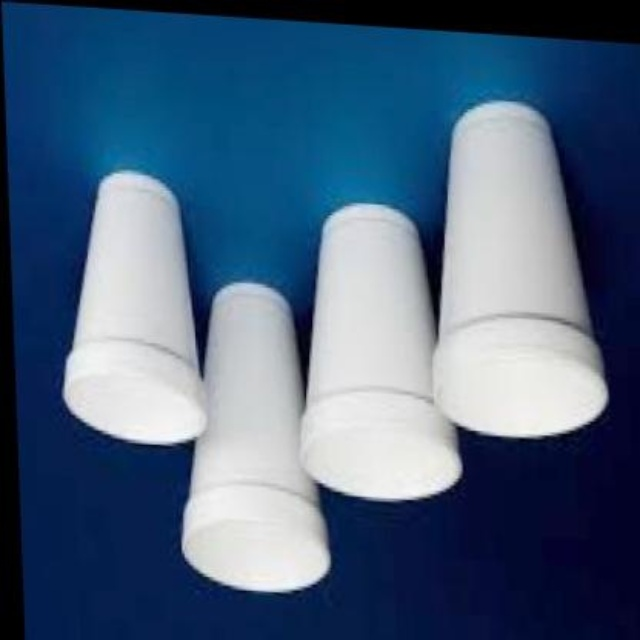trash: (65, 102, 606, 591), (434, 102, 606, 435), (300, 203, 460, 498), (182, 283, 329, 591), (63, 171, 205, 443)
